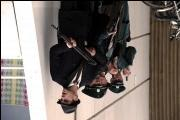gun: (50, 24, 96, 66)
